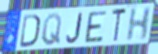D: (19, 13, 41, 49)
E: (84, 10, 108, 44)
H: (125, 6, 153, 43)
J: (65, 12, 83, 44)
Q: (41, 12, 63, 47)
T: (111, 7, 128, 44)
